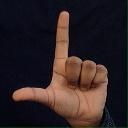hand: (11, 10, 108, 127)
